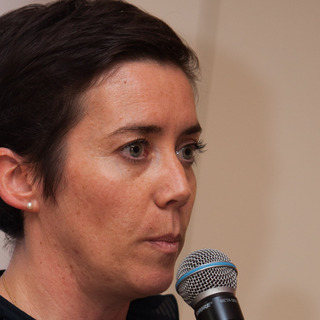eye: (111, 135, 154, 166), (172, 139, 204, 167)
